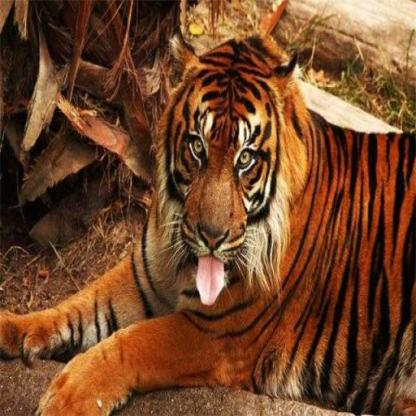Tiger: (0, 32, 415, 415)
